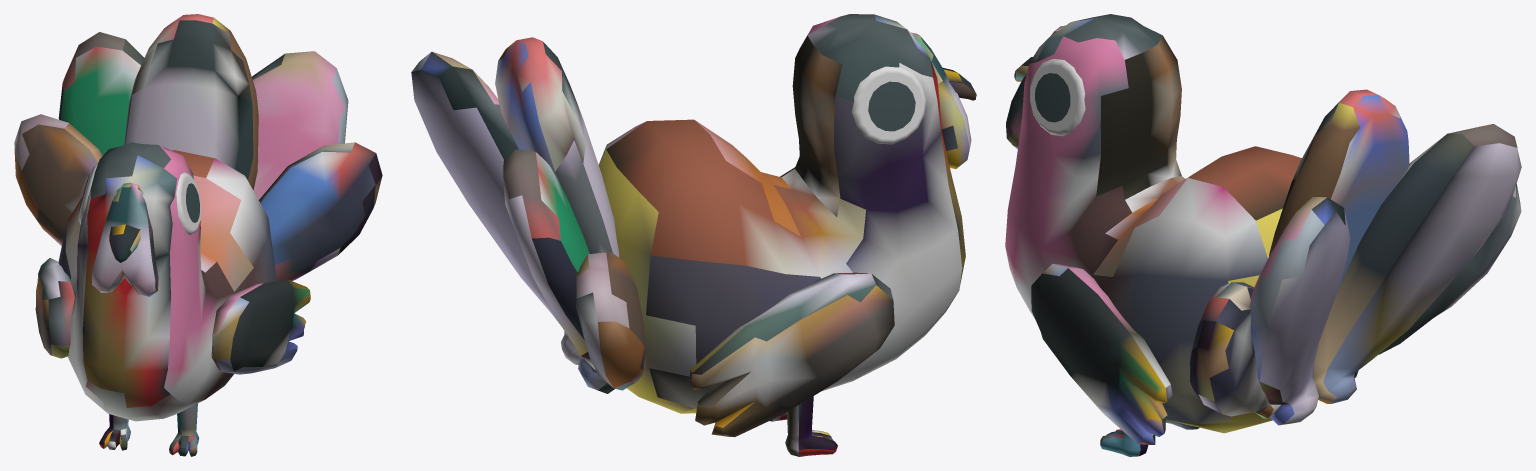
File: Turkey.glb
3 renders of one model, left to right at view 1: azimuth 30°, elevation 25°; view 2: azimuth 150°, elevation 25°; view 3: azimuth 270°, elevation 25°, orthographic. The views are drawn at different scales.
Parts seen in each view (by area): view 1: 169; view 2: 169; view 3: 169.
Boxes of the visible parts, x1,y1,x2,y2 form: 169: [14, 14, 382, 456]; 169: [411, 14, 976, 456]; 169: [1005, 14, 1521, 456].
Size of the model in its own units: 0.8655 by 0.7931 by 0.8873.
